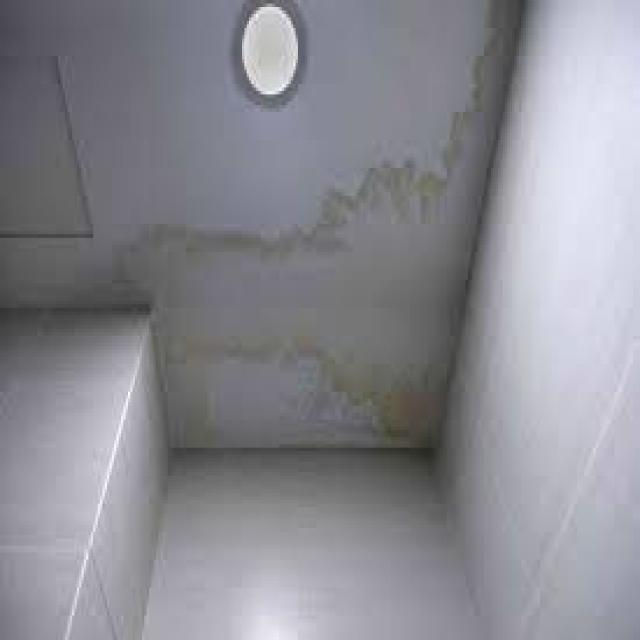dampness: (111, 4, 524, 454)
